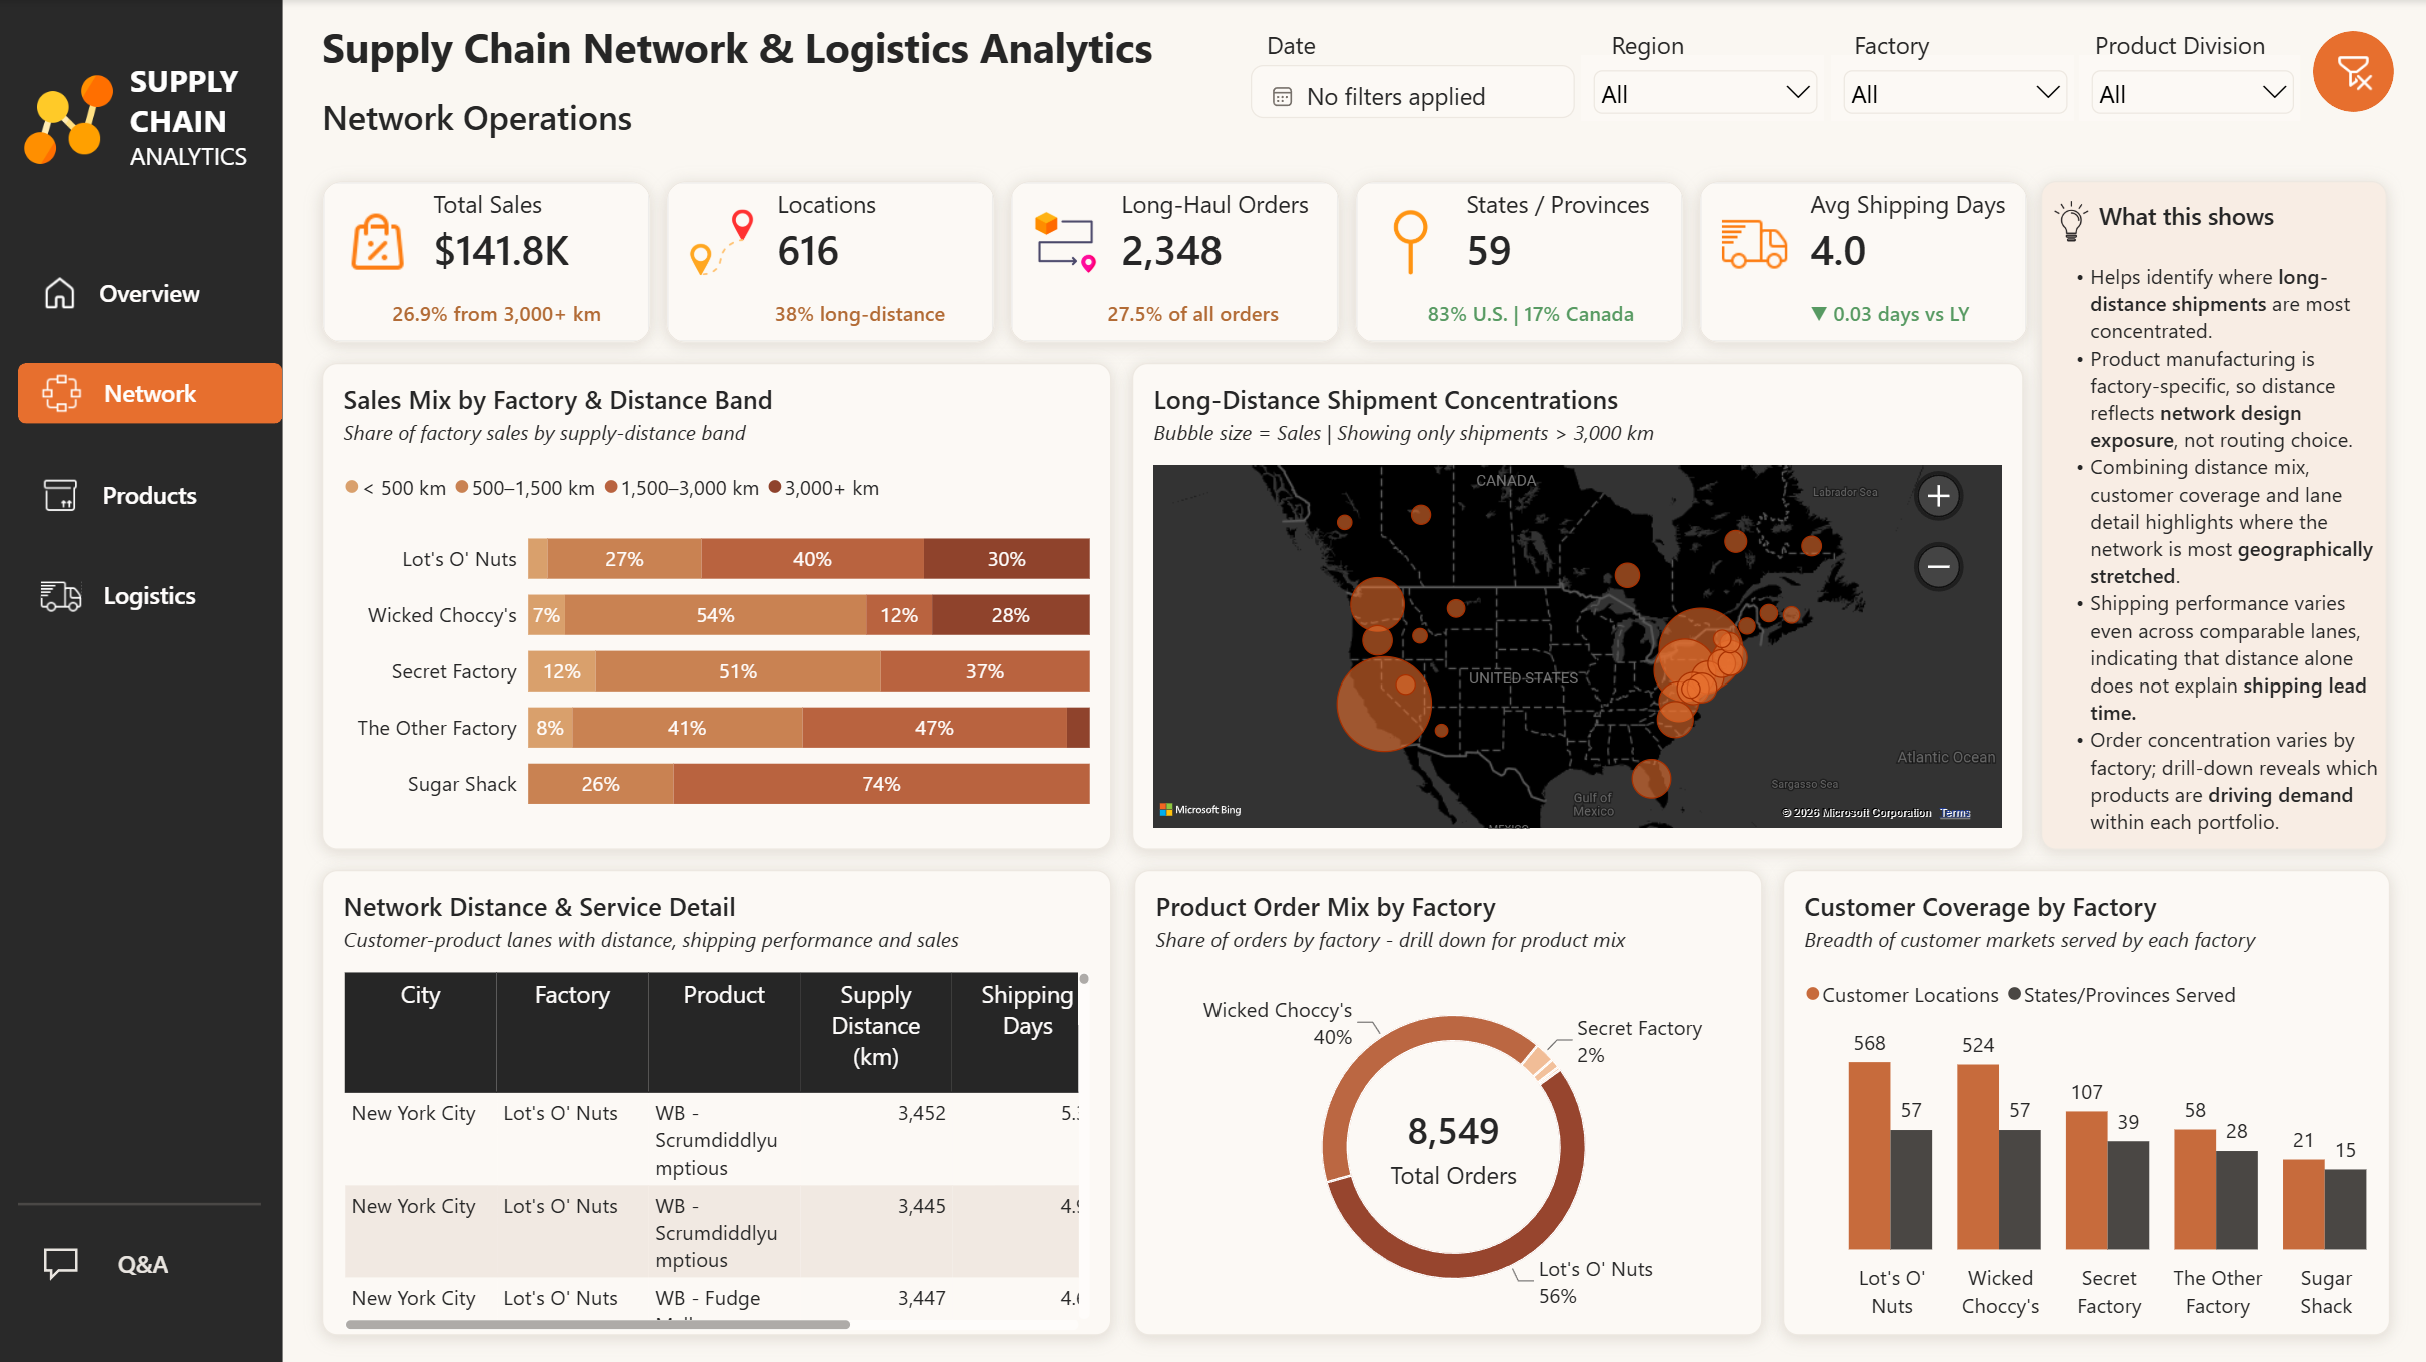

The dashboard page shown, as its layout file describes it:
{"tool":"powerbi","page":{"name":"Network","canvas":[1920,1080],"ordinal":1},"visuals":[{"type":"group","id":"g1","title":"Group 3","box":[1614.4,144,273.6,528],"z":0,"group":"g6"},{"type":"map","title":"Long-Distance Shipment Concentrations","fields":{"Size":["_Measures.Total Sales"],"Category":["vw_DimGeography.State_Province"]},"box":[896,288,704,384],"z":0,"group":"g7"},{"type":"shape","box":[0,0,225,1080],"z":1000},{"type":"textbox","box":[1614.4,144,273.6,528],"z":1500,"group":"g1"},{"type":"textbox","box":[105,48,120,96],"z":2000},{"type":"textbox","box":[256,16,672,64],"z":3000},{"type":"image","box":[1614.4,160,48,32],"z":3000,"group":"g6"},{"type":"slicer","title":"Date","fields":{"Values":["DimDate.Date"]},"box":[990,51,256,42],"z":4000,"group":"g2"},{"type":"textbox","box":[256,74,256,48],"z":4000},{"type":"slicer","title":"Date","fields":{"Values":["vw_FactSales.Country_Region","vw_FactSales.State_Province"]},"box":[1251,44,192,52],"z":5000,"group":"g3"},{"type":"slicer","title":"Date","fields":{"Values":["vw_DimFactory.Factory"]},"box":[1448,44,192,52],"z":5000,"group":"g4"},{"type":"slicer","title":"Date","fields":{"Values":["vw_DimProduct.Division"]},"box":[1645,44,175,52],"z":5000,"group":"g5"},{"type":"image","box":[16,56,80,80],"z":5000},{"type":"actionButton","box":[16,208,208,48],"z":6000},{"type":"actionButton","box":[16,288,209,48],"z":7000},{"type":"actionButton","box":[16,368,208,48],"z":8000},{"type":"actionButton","box":[16,448,208,48],"z":9000},{"type":"group","id":"g2","title":"Group 1","box":[990,23,256,70],"z":10000},{"type":"actionButton","box":[32,976,115,48],"z":11000},{"type":"shape","box":[16.2,944,192,16],"z":12000},{"type":"group","id":"g3","title":"Group 2","box":[1251,23,192,73],"z":13000},{"type":"group","id":"g4","title":"Group 2","box":[1448,23,192,73],"z":14000},{"type":"textbox","box":[990,23,64,32],"z":14001,"group":"g2"},{"type":"group","id":"g5","title":"Group 2","box":[1645,23,175,73],"z":15000},{"type":"textbox","box":[1256,23,96,30.4],"z":16000,"group":"g3"},{"type":"textbox","box":[1448,23,96,30.4],"z":16000,"group":"g4"},{"type":"textbox","box":[1645,23,160,32],"z":16000,"group":"g5"},{"type":"actionButton","box":[1830,25,64,64],"z":16000},{"type":"cardVisual","fields":{"Data":["_Measures.Total Sales"]},"box":[256,144,260,128],"z":17000},{"type":"cardVisual","fields":{"Data":["_Measures.Customer Locations"]},"box":[528,144,260,128],"z":18000},{"type":"cardVisual","fields":{"Data":["_Measures.Long-Distance Orders"]},"box":[800,144,260,128],"z":19000},{"type":"cardVisual","fields":{"Data":["_Measures.States Provinces Served"]},"box":[1072,144,260,128],"z":20000},{"type":"cardVisual","fields":{"Data":["_Measures.Avg Shipping Days"]},"box":[1344,144,260,128],"z":21000},{"type":"group","id":"g6","title":"Group 4","box":[1614.4,144,273.6,528],"z":24000},{"type":"hundredPercentStackedBarChart","title":"Sales Mix by Factory & Distance Band","fields":{"Series":["vw_FactSales.Distance Band"],"Category":["vw_DimFactory.Factory"],"Y":["_Measures.Total Sales"]},"box":[256,288,624,384],"z":25000},{"type":"tableEx","title":"Network Distance & Service Detail","fields":{"Values":["vw_DimGeography.City","vw_DimFactory.Factory","vw_DimProduct.Short Product Name","vw_FactSales.Actual Supply Distance KM","Avg(vw_FactSales.Shipping_Days)","vw_FactSales.Ship_Mode","_Measures.Total Sales"]},"box":[256,688,624,368],"z":26000},{"type":"clusteredColumnChart","title":"Customer Coverage by Factory","fields":{"Category":["vw_DimFactory.Factory"],"Y":["Count(vw_FactSales.Customer Locations)","Count(vw_FactSales.State_Province)"]},"box":[1411,688,480,368],"z":26500},{"type":"group","id":"g7","title":"Group 5","box":[896,288,704,384],"z":27000},{"type":"donutChart","title":"Product Order Mix by Factory","fields":{"Category":["vw_DimFactory.Factory","vw_DimProduct.Short Product Name"],"Y":["Count(vw_FactSales.Order_ID)"]},"box":[897.5,688,496,368],"z":27500}]}

Visuals, with their boxes on the page's 1920x1080 design canvas (x1, y1, x2, y2). These are canvas units, not pixel positions in the 2426x1362 screenshot, which may show the page scaled, cropped or inside an application window:
"Group 3" group: crop(1614, 144, 1888, 672)
"Long-Distance Shipment Concentrations" map: crop(896, 288, 1600, 672)
shape: crop(0, 0, 225, 1080)
textbox: crop(1614, 144, 1888, 672)
textbox: crop(105, 48, 225, 144)
textbox: crop(256, 16, 928, 80)
image: crop(1614, 160, 1662, 192)
"Date" slicer: crop(990, 51, 1246, 93)
textbox: crop(256, 74, 512, 122)
"Date" slicer: crop(1251, 44, 1443, 96)
"Date" slicer: crop(1448, 44, 1640, 96)
"Date" slicer: crop(1645, 44, 1820, 96)
image: crop(16, 56, 96, 136)
actionButton: crop(16, 208, 224, 256)
actionButton: crop(16, 288, 225, 336)
actionButton: crop(16, 368, 224, 416)
actionButton: crop(16, 448, 224, 496)
"Group 1" group: crop(990, 23, 1246, 93)
actionButton: crop(32, 976, 147, 1024)
shape: crop(16, 944, 208, 960)
"Group 2" group: crop(1251, 23, 1443, 96)
"Group 2" group: crop(1448, 23, 1640, 96)
textbox: crop(990, 23, 1054, 55)
"Group 2" group: crop(1645, 23, 1820, 96)
textbox: crop(1256, 23, 1352, 53)
textbox: crop(1448, 23, 1544, 53)
textbox: crop(1645, 23, 1805, 55)
actionButton: crop(1830, 25, 1894, 89)
cardVisual - _Measures.Total Sales: crop(256, 144, 516, 272)
cardVisual - _Measures.Customer Locations: crop(528, 144, 788, 272)
cardVisual - _Measures.Long-Distance Orders: crop(800, 144, 1060, 272)
cardVisual - _Measures.States Provinces Served: crop(1072, 144, 1332, 272)
cardVisual - _Measures.Avg Shipping Days: crop(1344, 144, 1604, 272)
"Group 4" group: crop(1614, 144, 1888, 672)
"Sales Mix by Factory & Distance Band" hundredPercentStackedBarChart: crop(256, 288, 880, 672)
"Network Distance & Service Detail" tableEx: crop(256, 688, 880, 1056)
"Customer Coverage by Factory" clusteredColumnChart: crop(1411, 688, 1891, 1056)
"Group 5" group: crop(896, 288, 1600, 672)
"Product Order Mix by Factory" donutChart: crop(898, 688, 1394, 1056)
